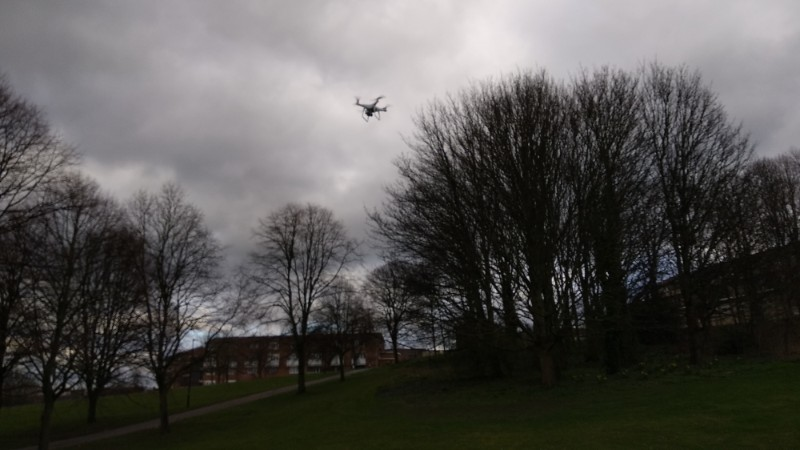drone: (351, 96, 390, 123)
